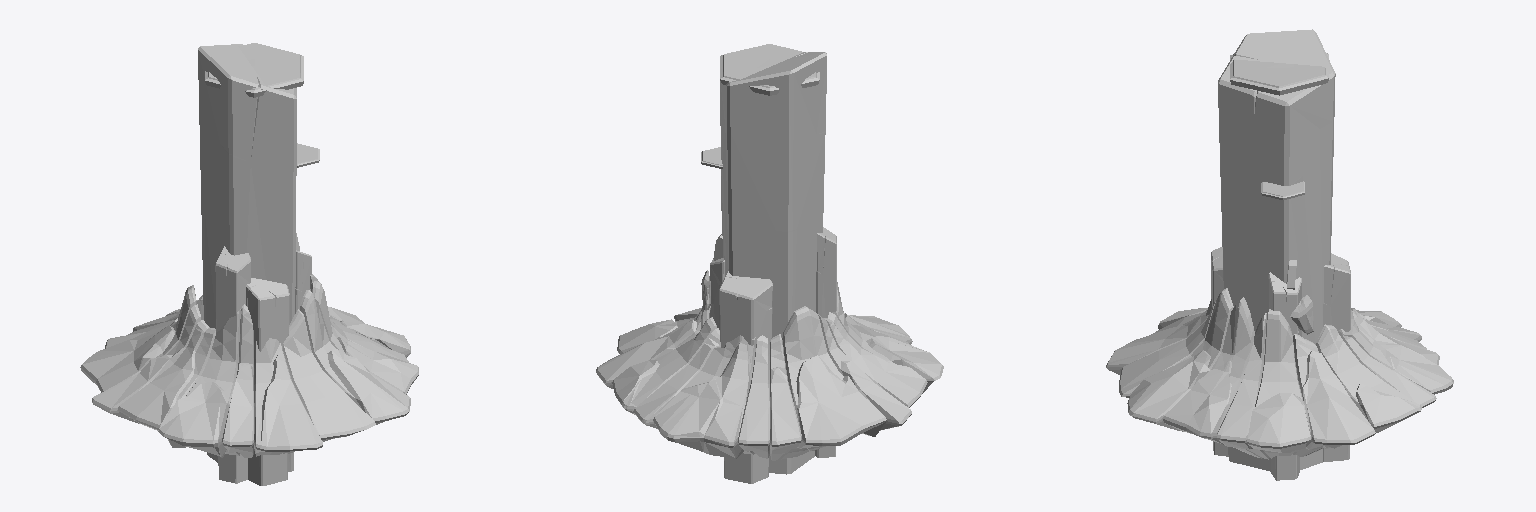
Rendered from WEIRDRIGGROUND.obj.
3 views of the same model, side by side, from view 1: azimuth 30°, elevation 25°; view 2: azimuth 150°, elevation 25°; view 3: azimuth 270°, elevation 25° (orthographic).
Visible parts, largest first — view 1: BeamStone1, _Crystal_Pillar, SUB1_Crystal_Hexagon, SUB1Small; view 2: BeamStone1, _Crystal_Pillar, SUB1_Crystal_Hexagon, SUB1Small; view 3: BeamStone1, _Crystal_Pillar, SUB1_Crystal_Hexagon, SUB1Small.
Part boxes in pixels (left/top/right/bottom): BeamStone1: left=80, top=274, right=418, bottom=457; _Crystal_Pillar: left=198, top=44, right=311, bottom=485; SUB1_Crystal_Hexagon: left=205, top=43, right=303, bottom=97; SUB1Small: left=205, top=59, right=319, bottom=167; BeamStone1: left=596, top=270, right=943, bottom=460; _Crystal_Pillar: left=710, top=52, right=836, bottom=483; SUB1_Crystal_Hexagon: left=720, top=44, right=819, bottom=95; SUB1Small: left=701, top=59, right=819, bottom=168; BeamStone1: left=1106, top=288, right=1453, bottom=459; _Crystal_Pillar: left=1211, top=29, right=1350, bottom=480; SUB1_Crystal_Hexagon: left=1230, top=53, right=1328, bottom=95; SUB1Small: left=1230, top=54, right=1328, bottom=199.
Bounding box in the file's own units: 2.03 × 2.69 × 2.04.